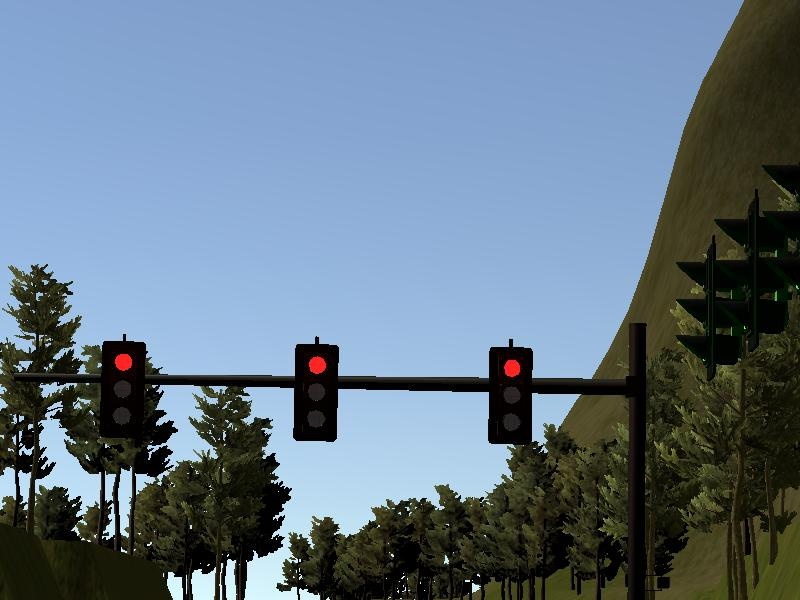RED: (293, 344, 338, 441), (486, 348, 531, 445), (102, 341, 147, 438)
